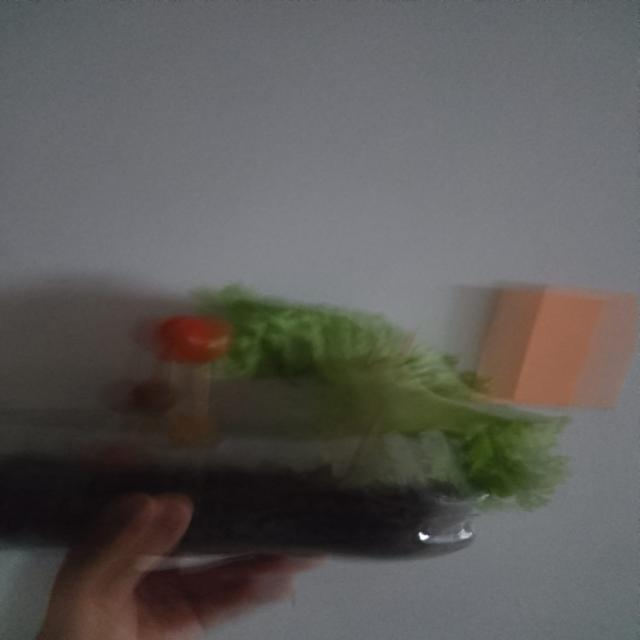card: (478, 287, 637, 408)
fully_grown: (154, 316, 232, 363)
